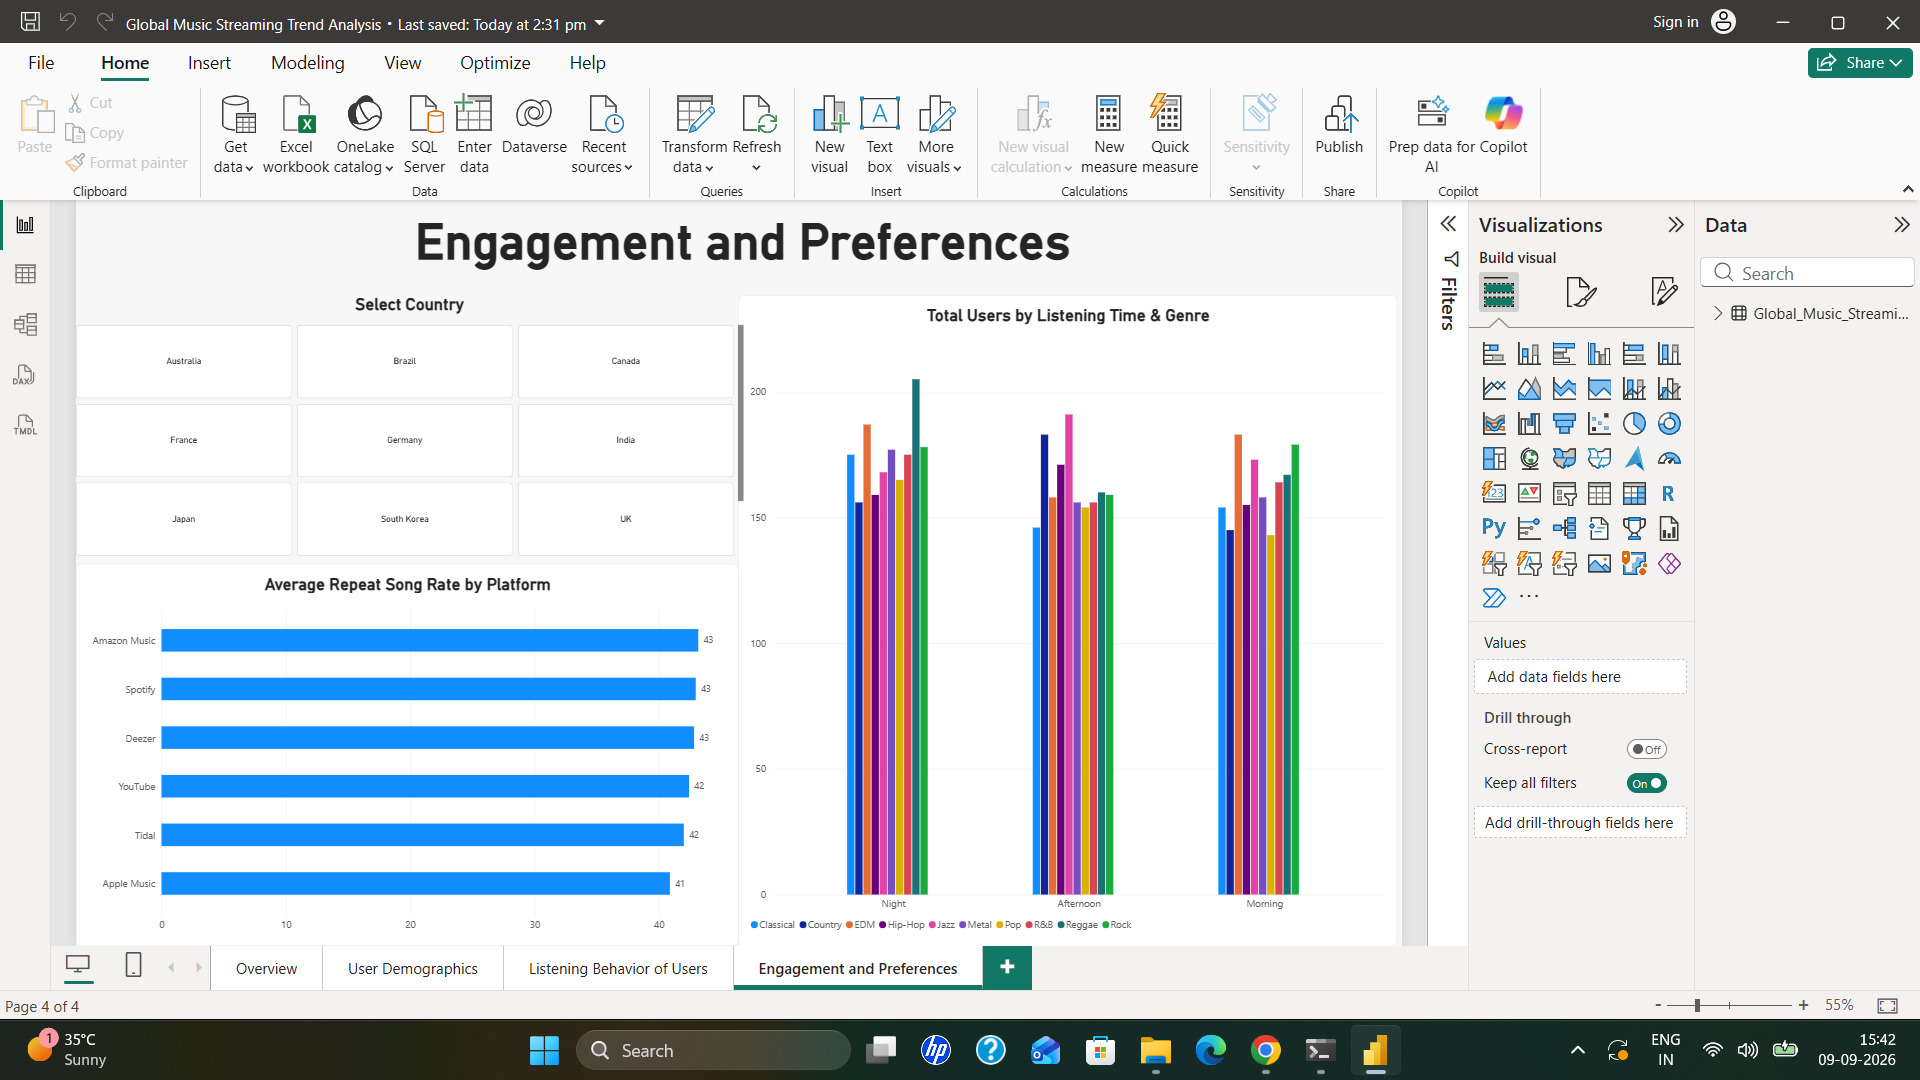

What the dashboard file says about the page in this screenshot:
{"tool":"powerbi","page":{"name":"Engagement and Preferences","canvas":[1920,1080],"ordinal":3},"visuals":[{"type":"textbox","box":[10.9,18.1,1909.2,119.4],"z":0},{"type":"barChart","title":"Average Repeat Song Rate by Platform","fields":{"Category":["Global_Music_Streaming_Listener_Preferences.Streaming Platform"],"Y":["Avg(Global_Music_Streaming_Listener_Preferences.Repeat Song Rate (%))"]},"box":[0,526.6,959.1,553.8],"z":1000},{"type":"clusteredColumnChart","title":"Total Users by Listening Time & Genre","fields":{"Category":["Global_Music_Streaming_Listener_Preferences.Listening Time (Morning/Afternoon/Night)"],"Series":["Global_Music_Streaming_Listener_Preferences.Top Genre"],"Y":["CountNonNull(Global_Music_Streaming_Listener_Preferences.User_ID)"]},"box":[959.1,137.5,953.7,942.8],"z":2000},{"type":"advancedSlicerVisual","title":"Select Country","fields":{"Values":["Global_Music_Streaming_Listener_Preferences.Country"]},"box":[0,137.5,966.4,378.2],"z":3000}]}

Visuals, with their boxes on the page's 1920x1080 design canvas (x1, y1, x2, y2). These are canvas units, not pixel positions in the 1920x1080 screenshot, which may show the page scaled, cropped or inside an application window:
textbox: (11, 18, 1920, 138)
"Average Repeat Song Rate by Platform" barChart: (0, 527, 959, 1080)
"Total Users by Listening Time & Genre" clusteredColumnChart: (959, 138, 1913, 1080)
"Select Country" advancedSlicerVisual: (0, 138, 966, 516)
